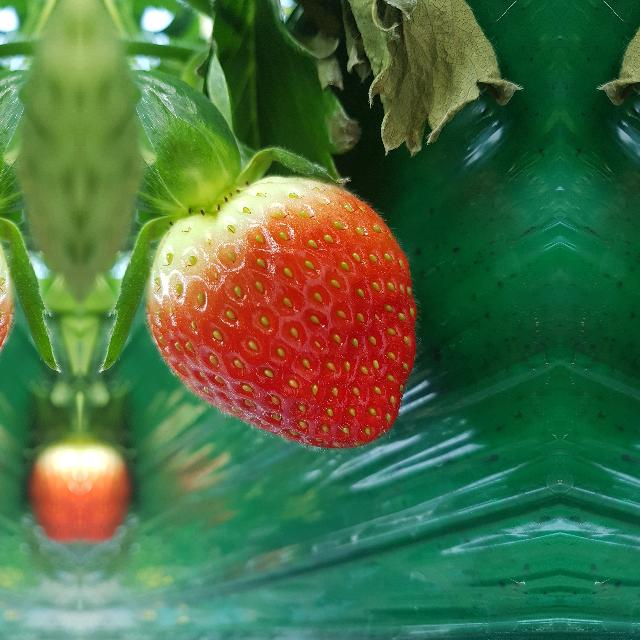Health_75: (142, 173, 420, 451)
